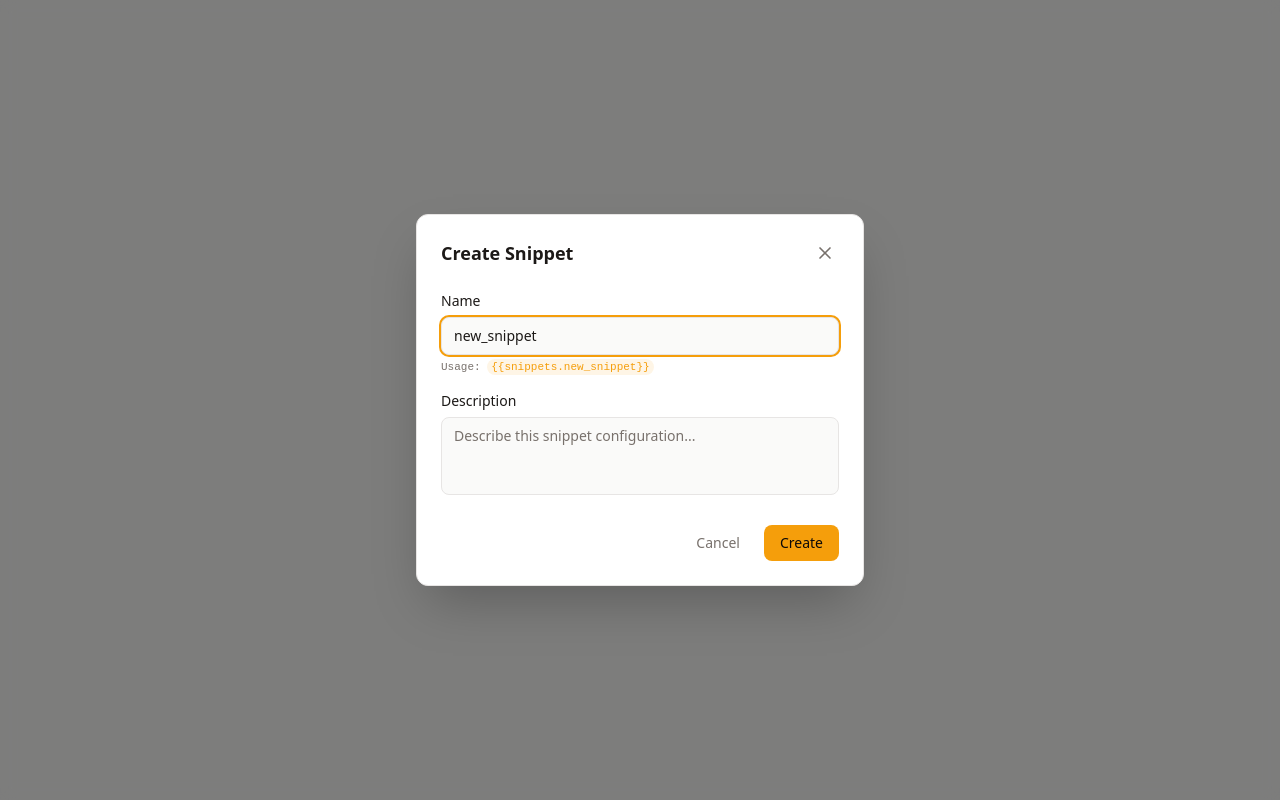
Test: CreateResourceDialog › shows validation error for snippet names if empty or invalid
Clear the field with test id "resource-name-input" at (640,336), box [441,317,839,355]
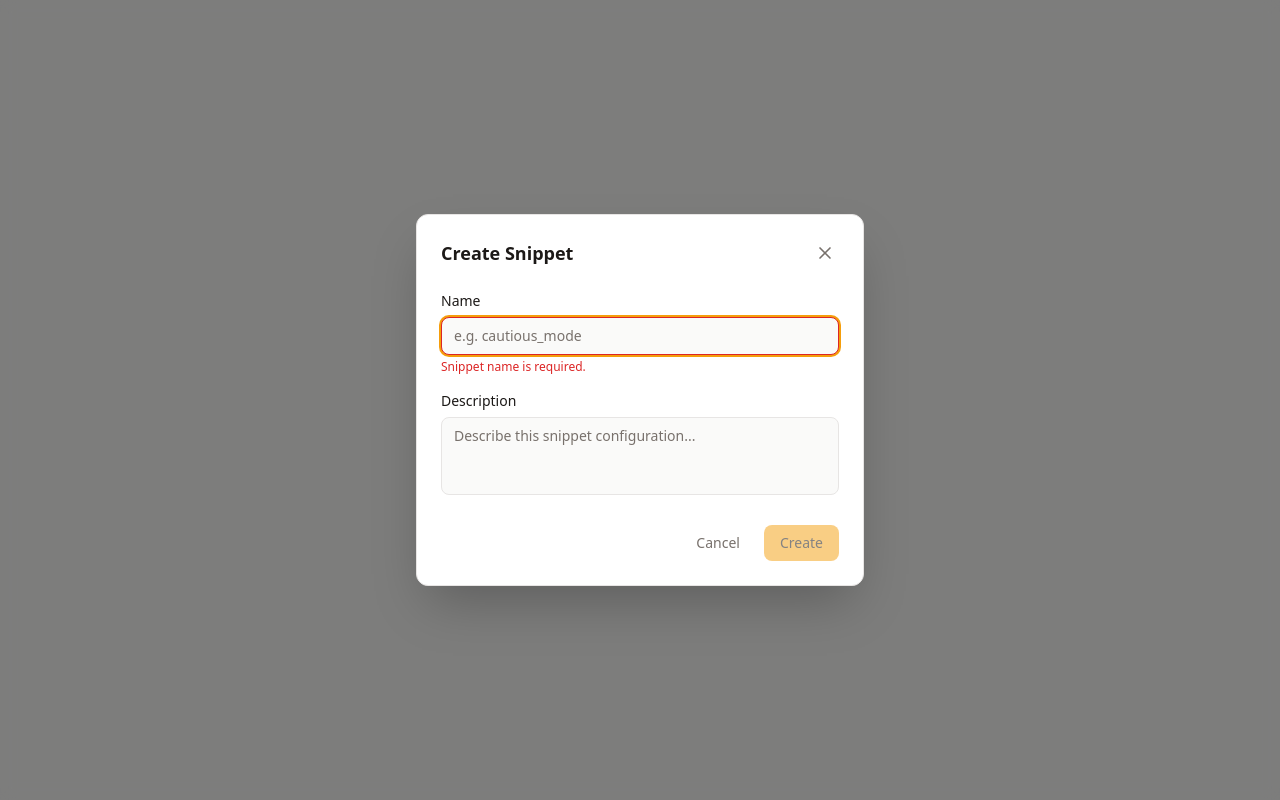
Result: the text "Snippet name is required." is shown at [441,358,586,375]
Result: the button with test id "create-resource-submit" is disabled at [764,525,839,561]
